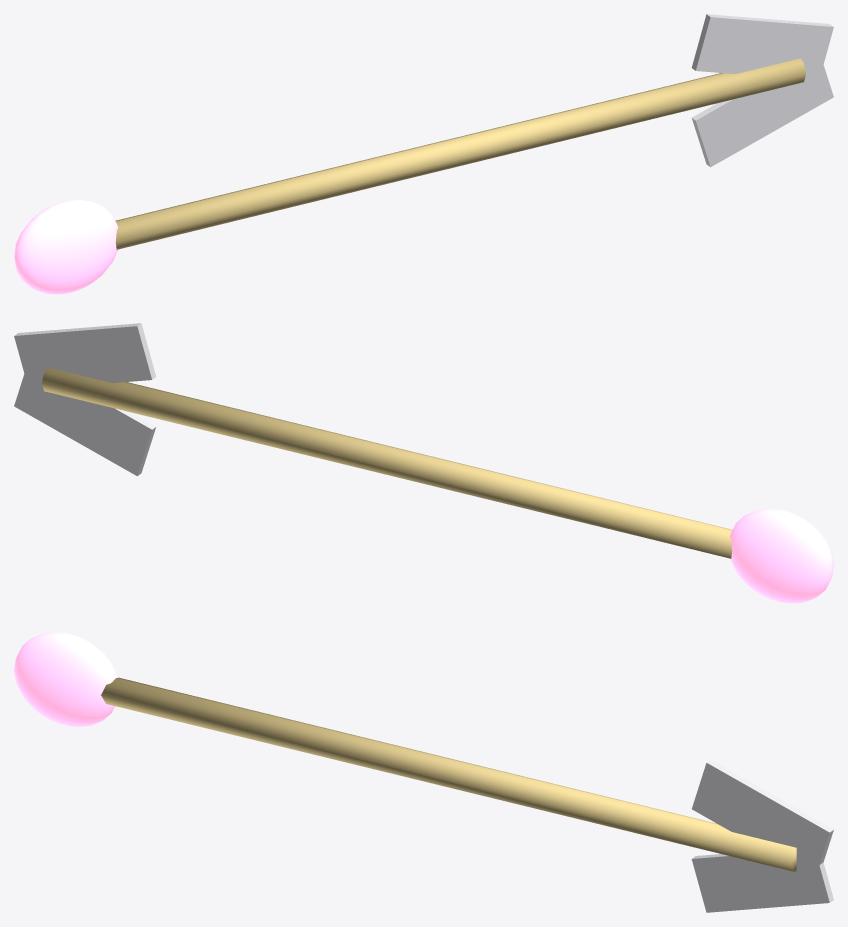
File: arrow.glb
3 renders of one model, top to bottom at view 1: azimuth 30°, elevation 25°; view 2: azimuth 150°, elevation 25°; view 3: azimuth 330°, elevation 25°, orthographic.
Parts seen in each view (by area): view 1: arrow; view 2: arrow; view 3: arrow.
Boxes of the visible parts, box(x1,y1,x2,y2) form: arrow: box(14, 14, 833, 294); arrow: box(14, 323, 833, 603); arrow: box(14, 632, 833, 912).
Size of the model in its own units: 1.14 by 0.2001 by 0.06.
